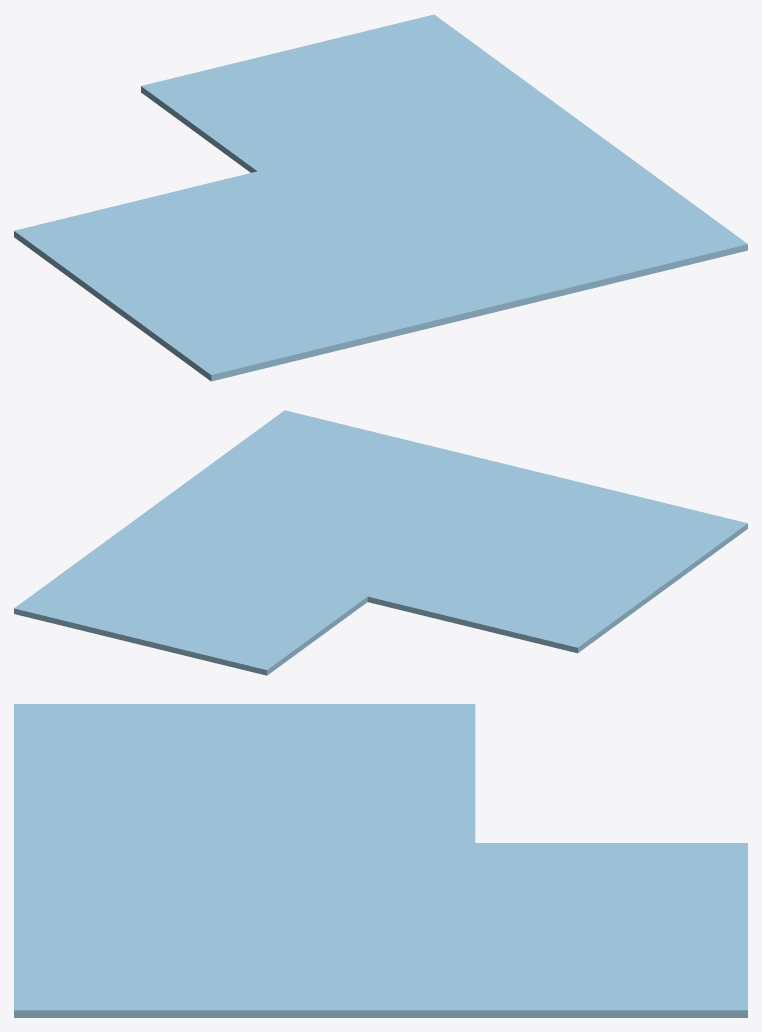
File: floor_2_asset.dae
The picture shows the model from 3 angles, top to bottom: view 1: azimuth 30°, elevation 25°; view 2: azimuth 150°, elevation 25°; view 3: azimuth 270°, elevation 25°; orthographic projection. The views are drawn at different scales.
Parts seen in each view (by area): view 1: Floor.001; view 2: Floor.001; view 3: Floor.001.
Part boxes in pixels (x1=…): Floor.001: x1=14, y1=14, x2=747, y2=381; Floor.001: x1=14, y1=410, x2=747, y2=675; Floor.001: x1=14, y1=704, x2=747, y2=1017.
Size of the model in its own units: 4.43 by 4.48 by 0.0509.
